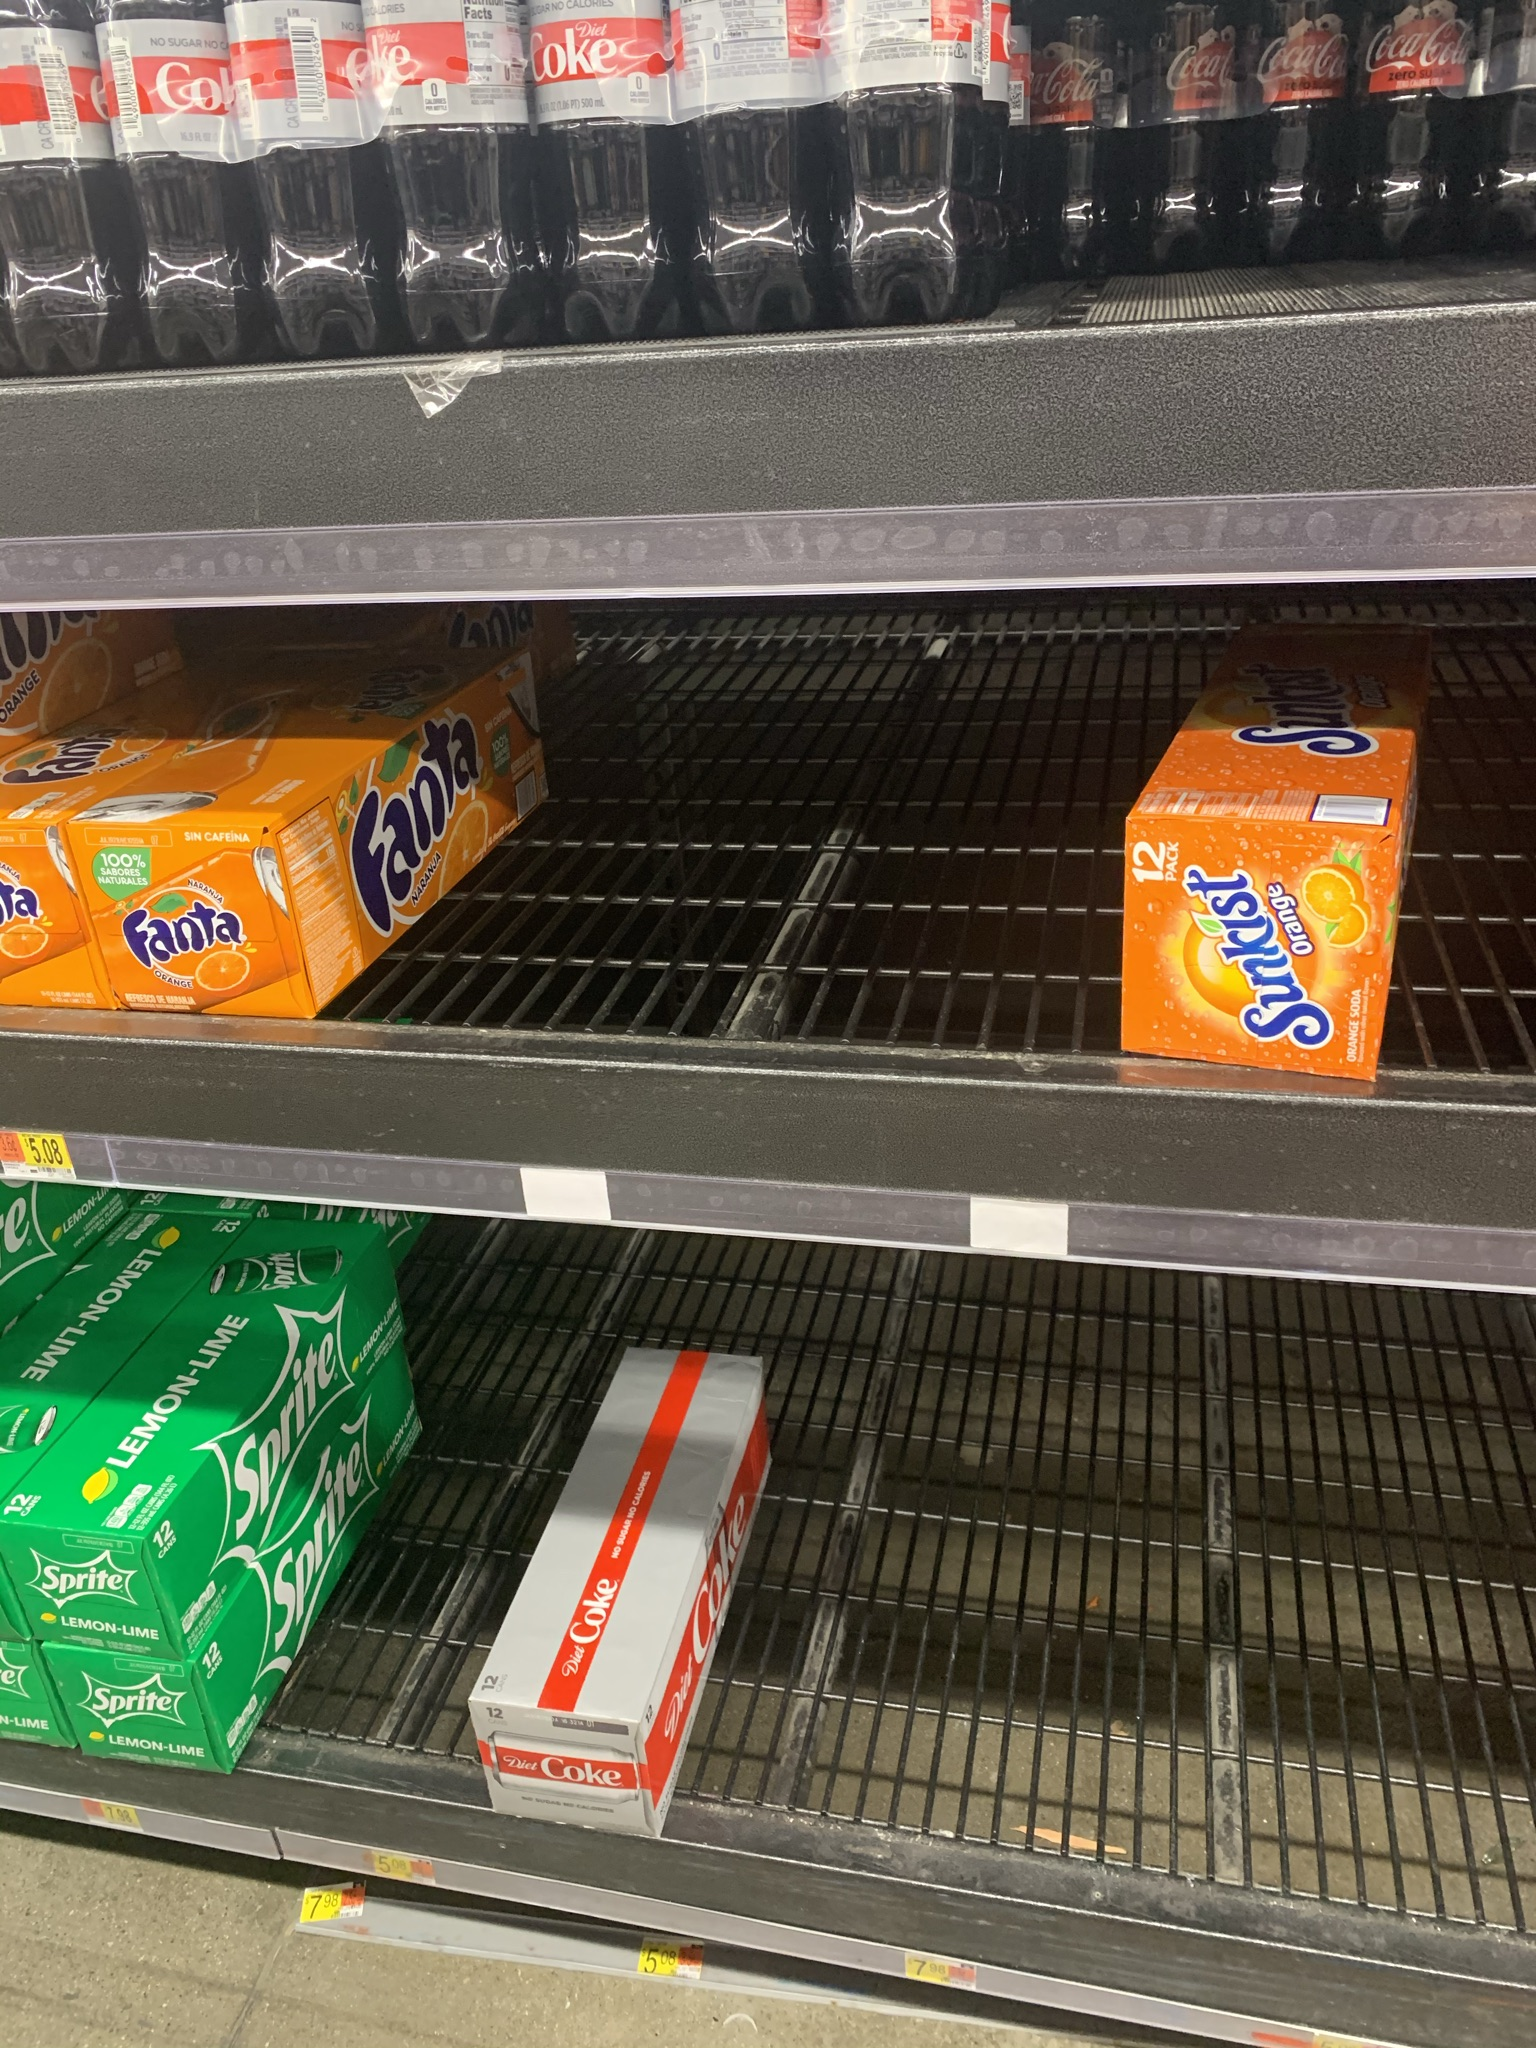box: (1121, 810, 1388, 1042), (111, 832, 292, 1013), (18, 1521, 173, 1646), (473, 1696, 650, 1796), (68, 1666, 210, 1755)
